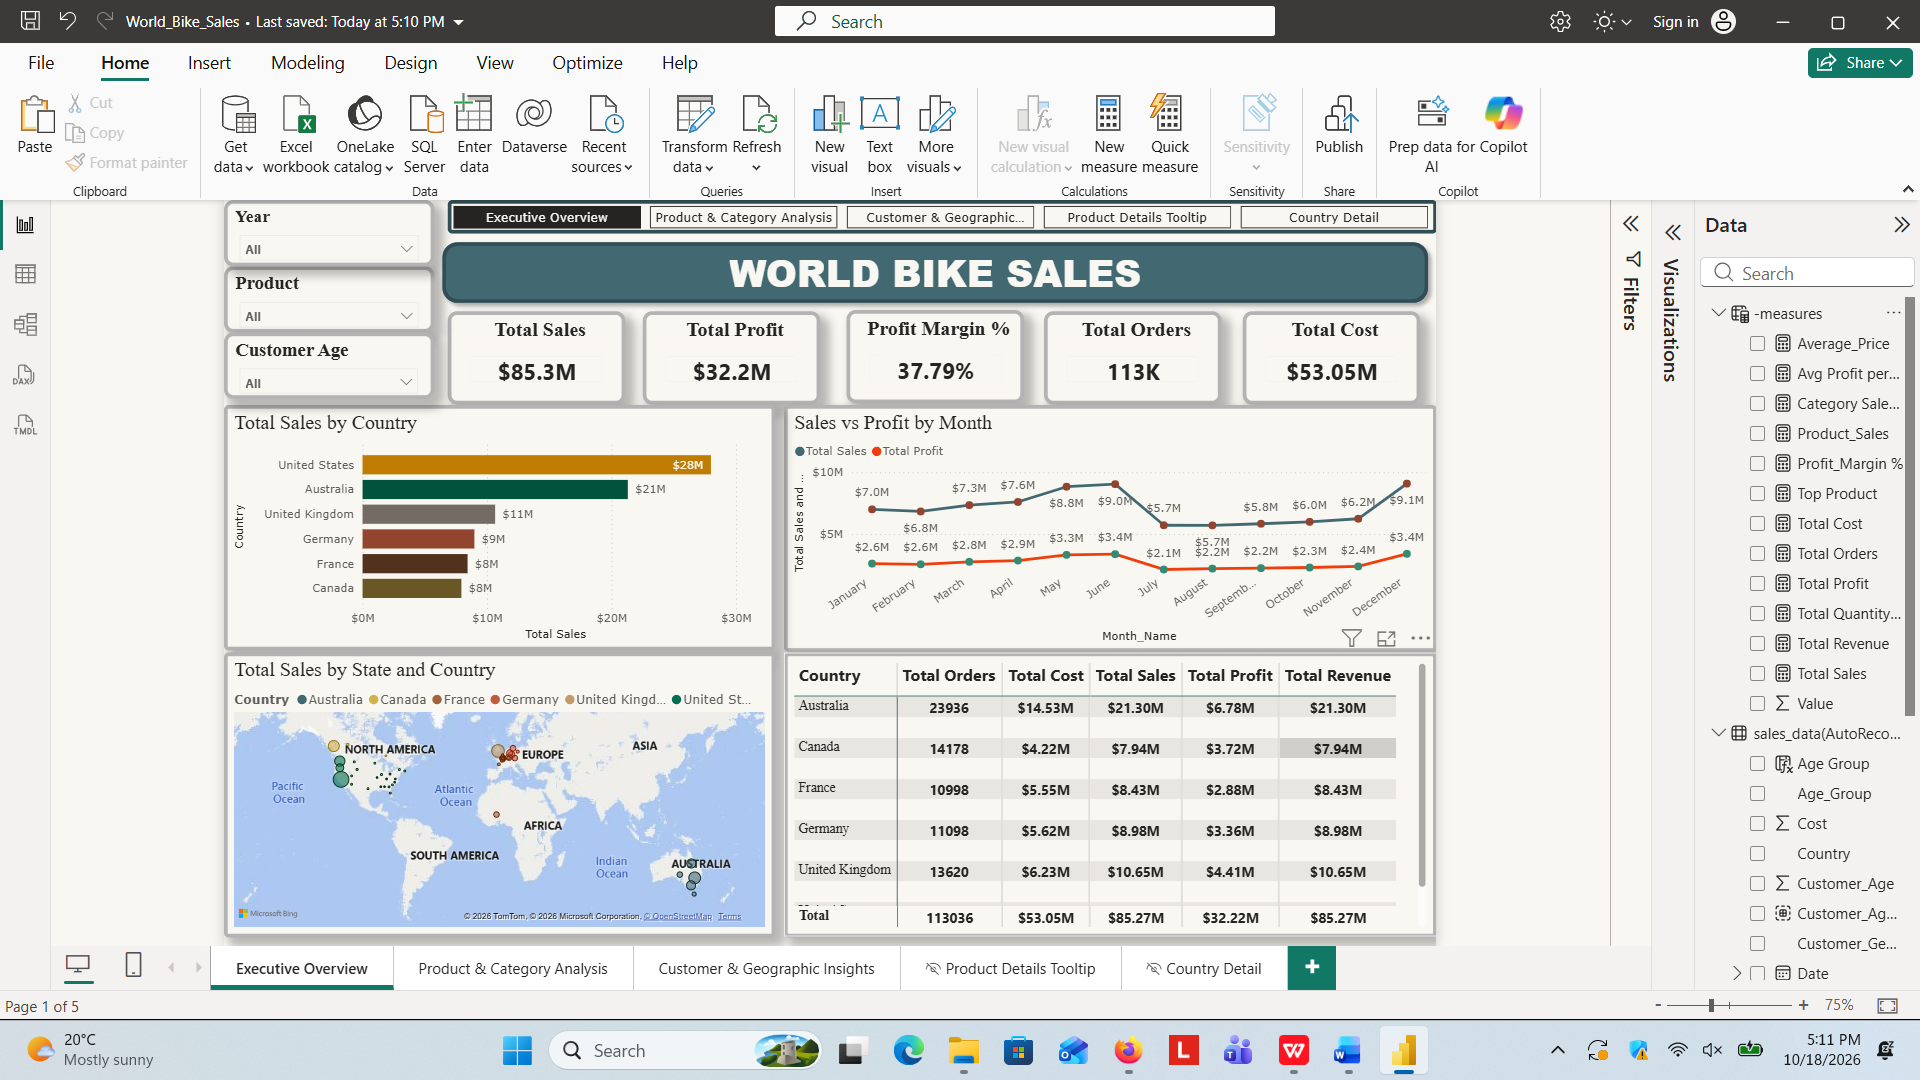

What the dashboard file says about the page in this screenshot:
{"tool":"powerbi","page":{"name":"Executive Overview","canvas":[1300,800],"ordinal":0},"visuals":[{"type":"cardVisual","title":"Total Sales","fields":{"Data":["-measures.Total_Sales"]},"box":[239.9,119.3,190,100],"z":0},{"type":"cardVisual","title":"Total Profit","fields":{"Data":["-measures.Total_Profit"]},"box":[449.1,119.3,190,100],"z":1000},{"type":"cardVisual","title":"Profit Margin %","fields":{"Data":["-measures.Profit_Margin %"]},"box":[667.6,118,190,100],"z":2000},{"type":"cardVisual","title":"Total Orders","fields":{"Data":["-measures.Total_Orders"]},"box":[879.4,119.3,190,100],"z":3000},{"type":"cardVisual","title":"Total Cost","fields":{"Data":["-measures.Total_Cost"]},"box":[1092.5,119.3,190,100],"z":4000},{"type":"lineChart","title":"Sales vs Profit by Month","fields":{"Category":["sales_data(AutoRecovered).Month_Name"],"Y":["-measures.Total_Sales","-measures.Total_Profit"]},"box":[600.7,220.2,699.6,264.8],"z":5000},{"type":"clusteredBarChart","title":"Total Sales by Country","fields":{"Category":["sales_data(AutoRecovered).Country"],"Y":["-measures.Total_Sales"]},"box":[0,220.2,590.9,263.4],"z":6000},{"type":"map","fields":{"Category":["sales_data(AutoRecovered).State"],"Series":["sales_data(AutoRecovered).Country"],"Size":["-measures.Total_Sales"]},"box":[0,485,590.9,305.2],"z":7000},{"type":"pivotTable","fields":{"Rows":["sales_data(AutoRecovered).Country"],"Values":["-measures.Total_Orders","-measures.Total_Cost","-measures.Total_Sales","-measures.Total_Profit","-measures.Total_Revenue"]},"box":[600.7,485,699.6,305.2],"z":8000},{"type":"slicer","title":"Product","fields":{"Values":["sales_data(AutoRecovered).Product"]},"box":[0,71,225.8,71.1],"z":8001},{"type":"slicer","title":"Year","fields":{"Values":["sales_data(AutoRecovered).Year"]},"box":[0,0,225.8,71.1],"z":8002},{"type":"slicer","title":"Customer Age","fields":{"Values":["sales_data(AutoRecovered).Age Group"]},"box":[0,142.1,225.2,71],"z":8003},{"type":"shape","box":[225.2,36.2,1075.1,83.1],"z":8004},{"type":"pageNavigator","box":[239.3,0,1060.9,36.4],"z":8005}]}

Visuals, with their boxes on the page's 1300x800 design canvas (x1, y1, x2, y2). These are canvas units, not pixel positions in the 1920x1080 screenshot, which may show the page scaled, cropped or inside an application window:
"Total Sales" cardVisual: <box>240,119,430,219</box>
"Total Profit" cardVisual: <box>449,119,639,219</box>
"Profit Margin %" cardVisual: <box>668,118,858,218</box>
"Total Orders" cardVisual: <box>879,119,1069,219</box>
"Total Cost" cardVisual: <box>1092,119,1282,219</box>
"Sales vs Profit by Month" lineChart: <box>601,220,1300,485</box>
"Total Sales by Country" clusteredBarChart: <box>0,220,591,484</box>
map - sales_data(AutoRecovered).State x sales_data(AutoRecovered).Country: <box>0,485,591,790</box>
pivotTable - sales_data(AutoRecovered).Country x -measures.Total_Orders: <box>601,485,1300,790</box>
"Product" slicer: <box>0,71,226,142</box>
"Year" slicer: <box>0,0,226,71</box>
"Customer Age" slicer: <box>0,142,225,213</box>
shape: <box>225,36,1300,119</box>
pageNavigator: <box>239,0,1300,36</box>
